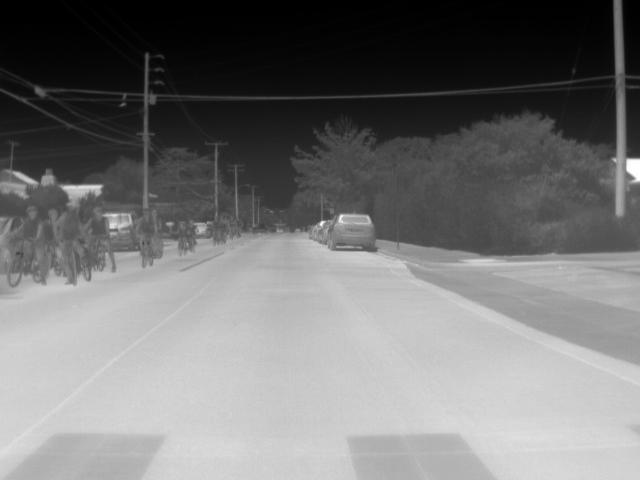car: (326, 211, 377, 248), (101, 211, 137, 250), (0, 214, 23, 248), (309, 220, 327, 240), (318, 221, 332, 243), (193, 222, 210, 239)
person: (57, 198, 86, 280), (11, 206, 49, 266), (84, 207, 118, 272), (132, 208, 158, 257), (40, 207, 60, 253), (173, 221, 189, 243)
